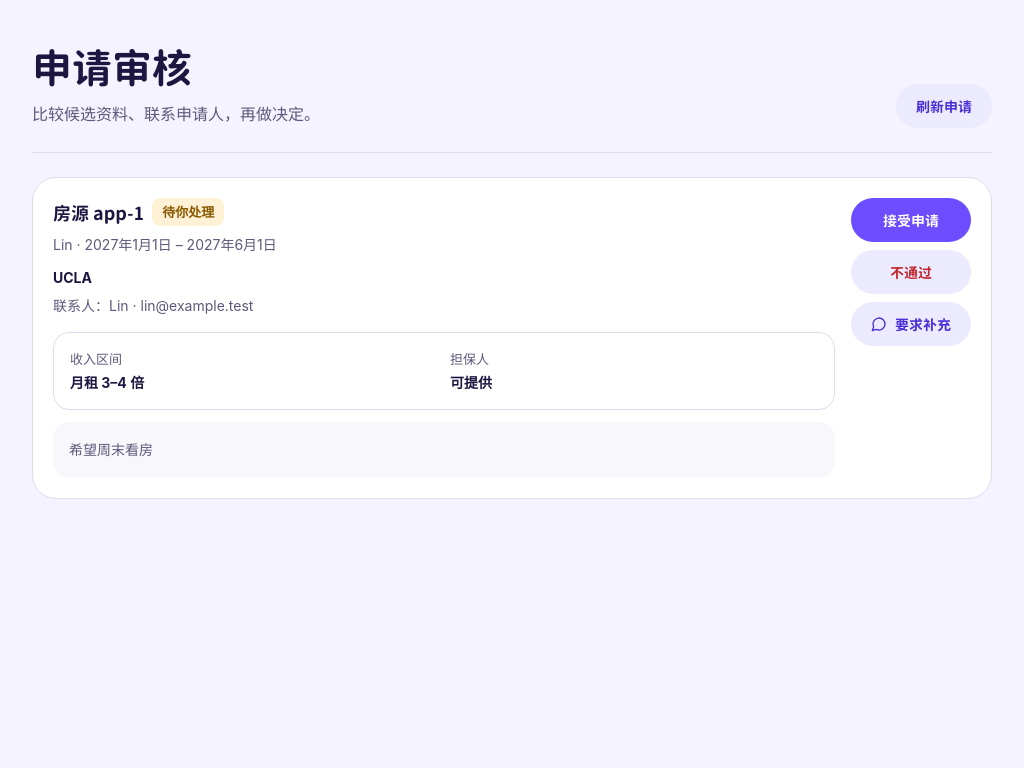
retries a lost reject response with the same command and records one decision
The image size is (1024, 768).
Click the button "不通过" at point(911, 272), box [851,250,971,294]
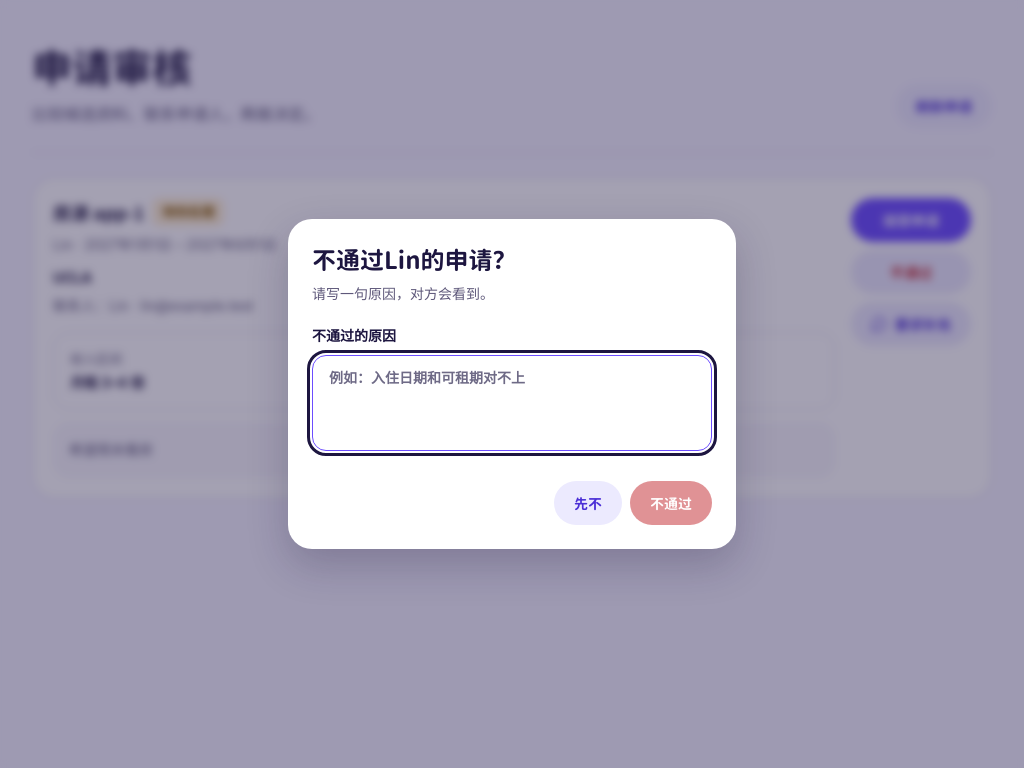
Type "入住时间不合适" into the text box at point(512, 403), box [312,355,712,451]
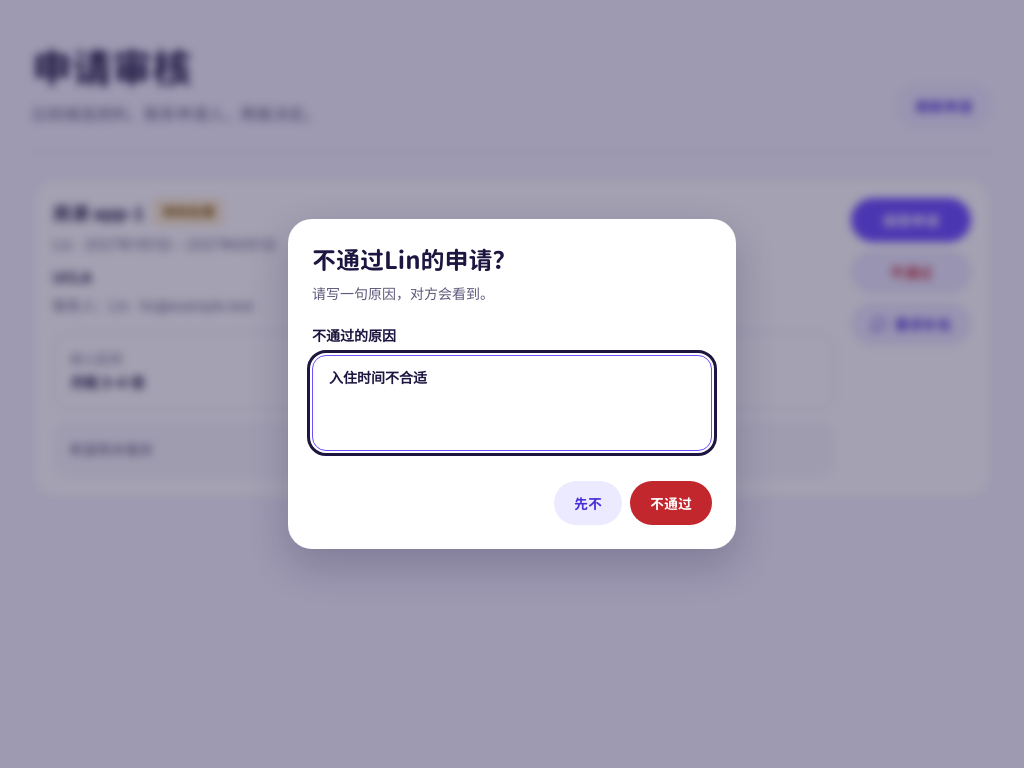
Click the button "不通过" at point(671, 503), box [630,481,712,525]
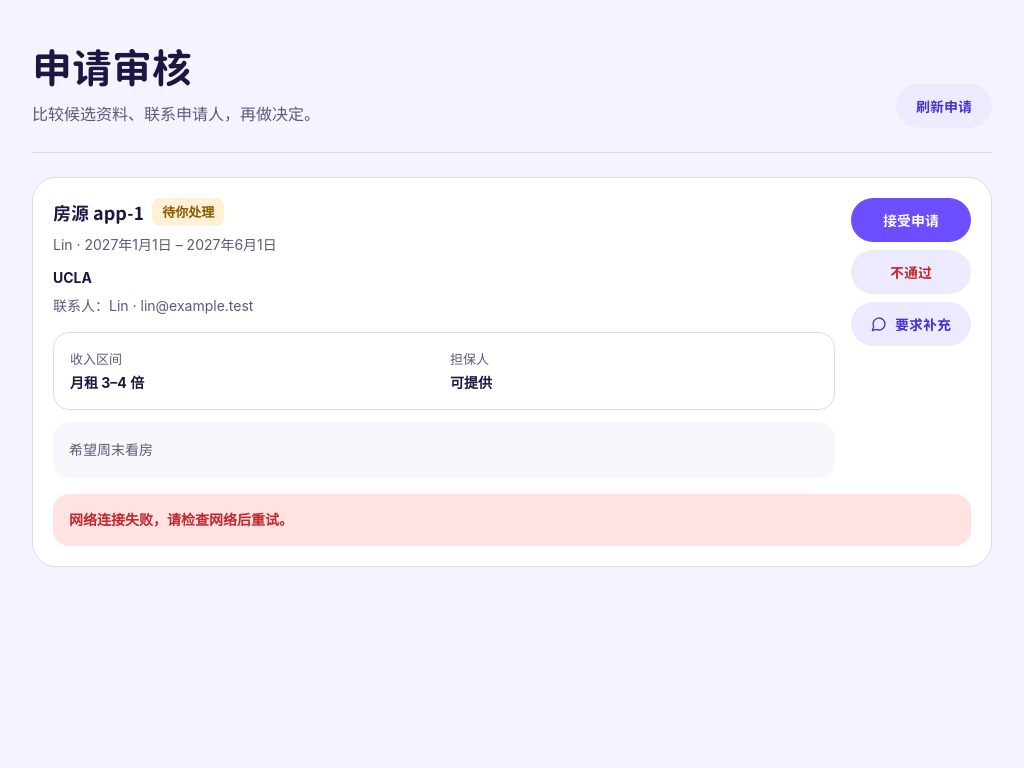
Check: the message "网络连接失败，请检查网络后重试。" is shown, box [53,494,971,546]
Click the button "不通过" at point(911, 272), box [851,250,971,294]
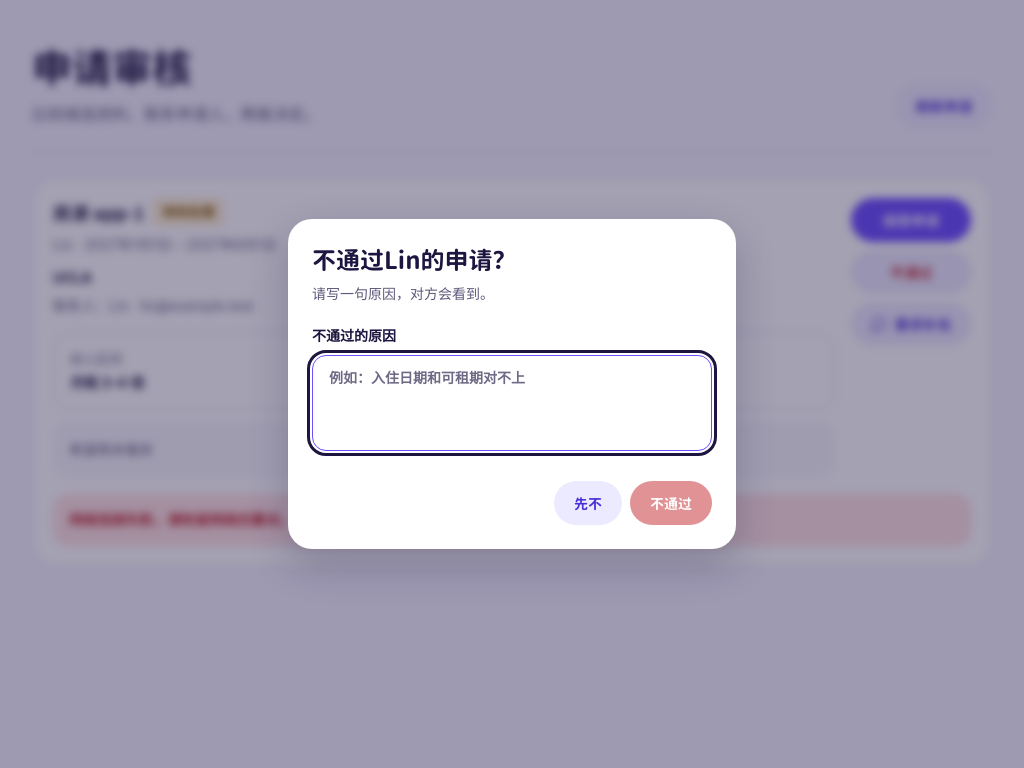
Type "入住时间不合适" into the text box at point(512, 403), box [312,355,712,451]
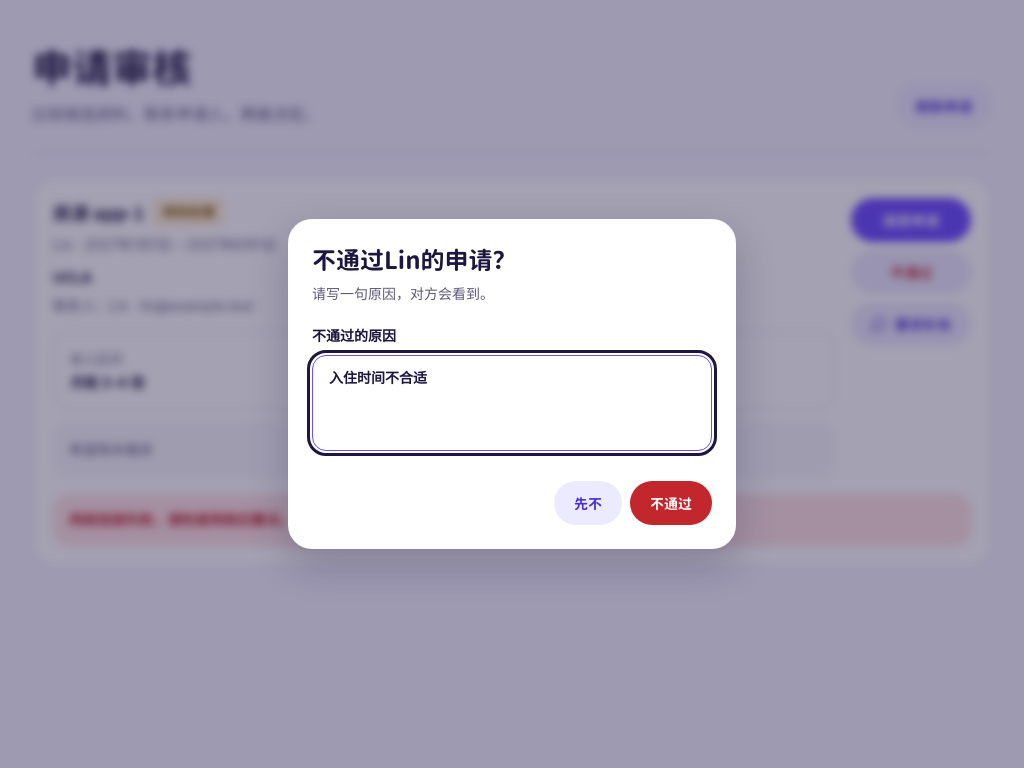
Click the button "不通过" at point(671, 503), box [630,481,712,525]
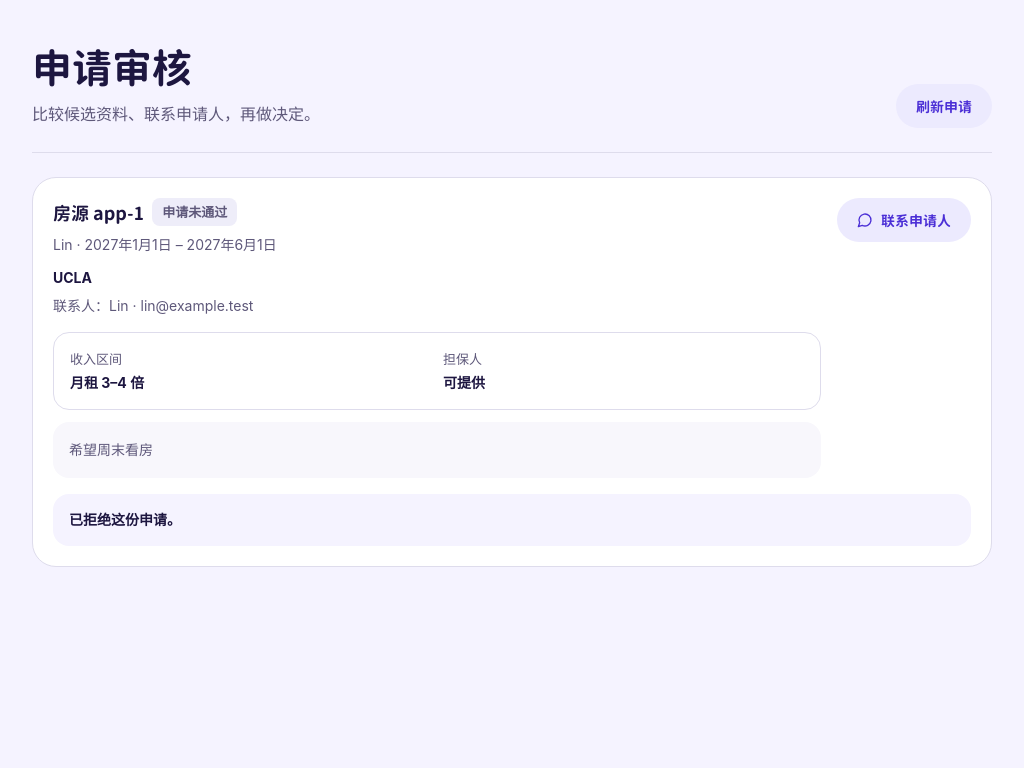
Check: the text "申请未通过" is shown, box [152,198,237,226]
